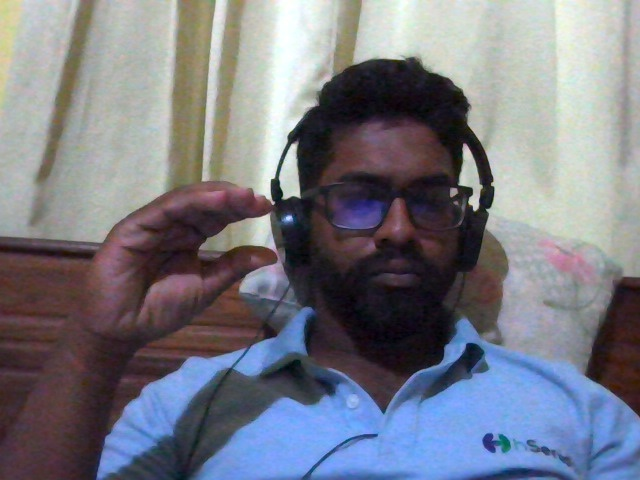No: (40, 161, 317, 356)
